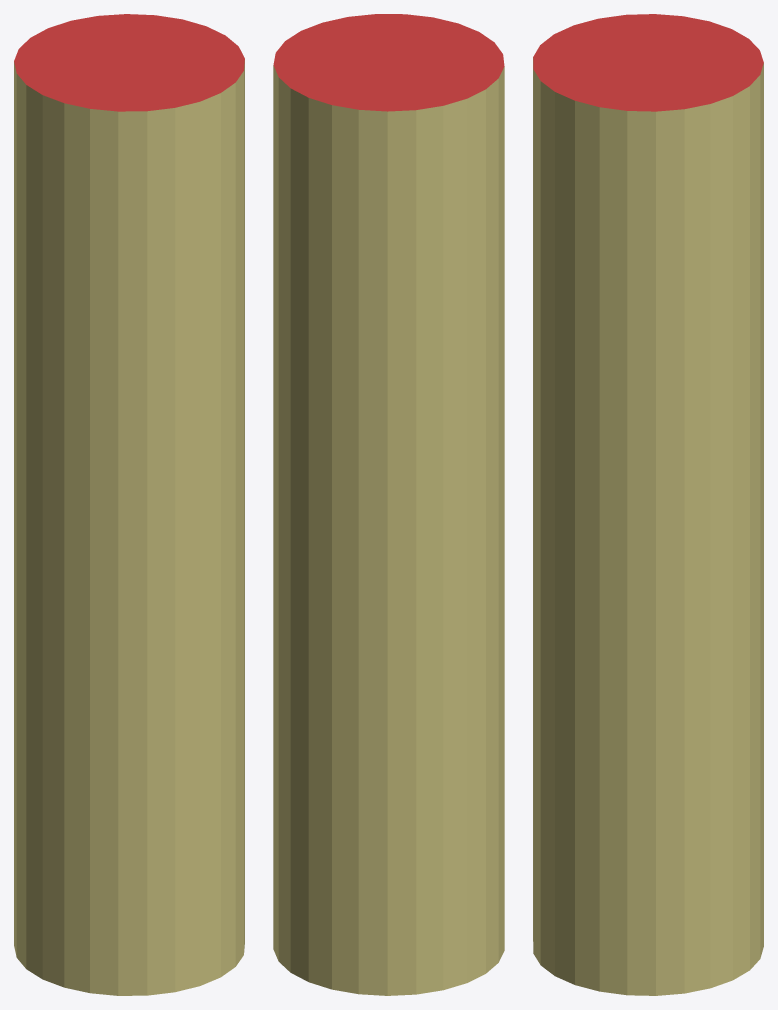
3 views of the same model, side by side, from view 1: azimuth 30°, elevation 25°; view 2: azimuth 150°, elevation 25°; view 3: azimuth 270°, elevation 25° (orthographic).
Bounding box in the file's own units: 6.34 × 6.33 × 26.78.
